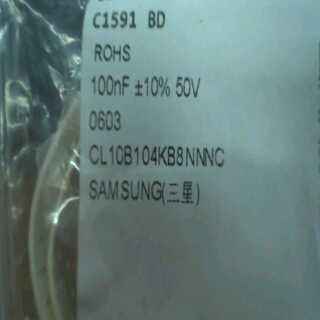100nF: (85, 70, 133, 100)
